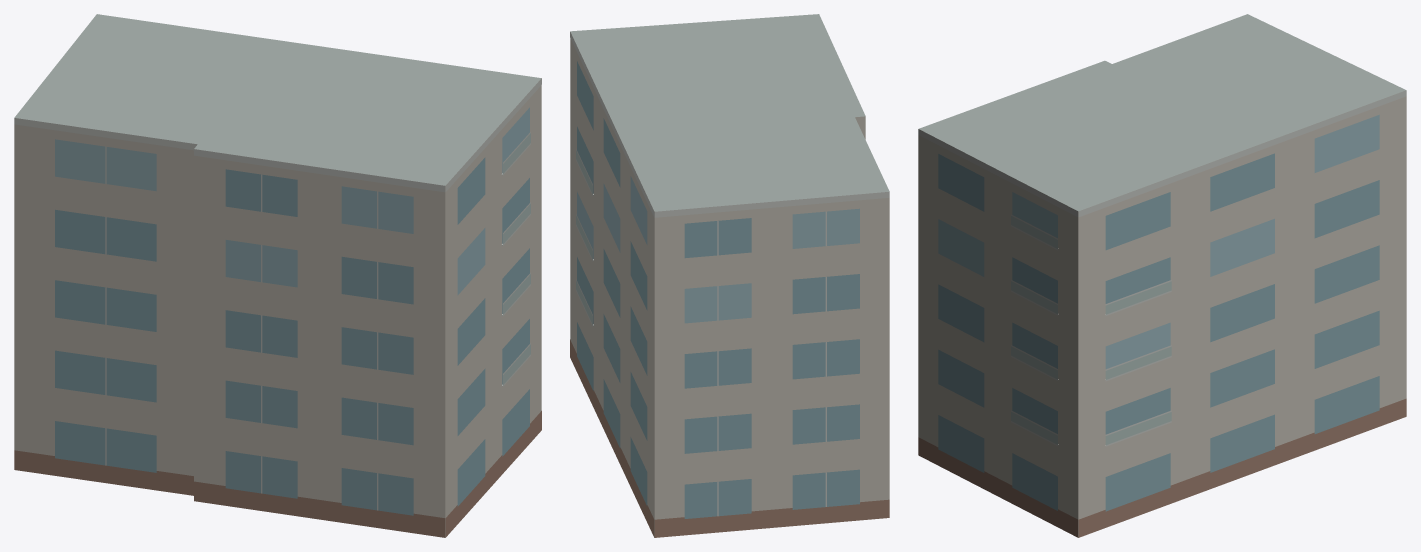
The model's file is survey-upis-33044033.glb.
The picture shows the model from 3 angles, left to right: view 1: azimuth 30°, elevation 25°; view 2: azimuth 150°, elevation 25°; view 3: azimuth 270°, elevation 25°; orthographic projection. The views are drawn at different scales.
Visible parts, largest first — view 1: survey-upis-33044033.tmp; view 2: survey-upis-33044033.tmp; view 3: survey-upis-33044033.tmp.
Part boxes in pixels (x1,y1,x2,y2): survey-upis-33044033.tmp: [14, 14, 541, 537]; survey-upis-33044033.tmp: [570, 14, 889, 537]; survey-upis-33044033.tmp: [918, 14, 1406, 537].
Size of the model in its own units: 17 by 13.1 by 17.76.
